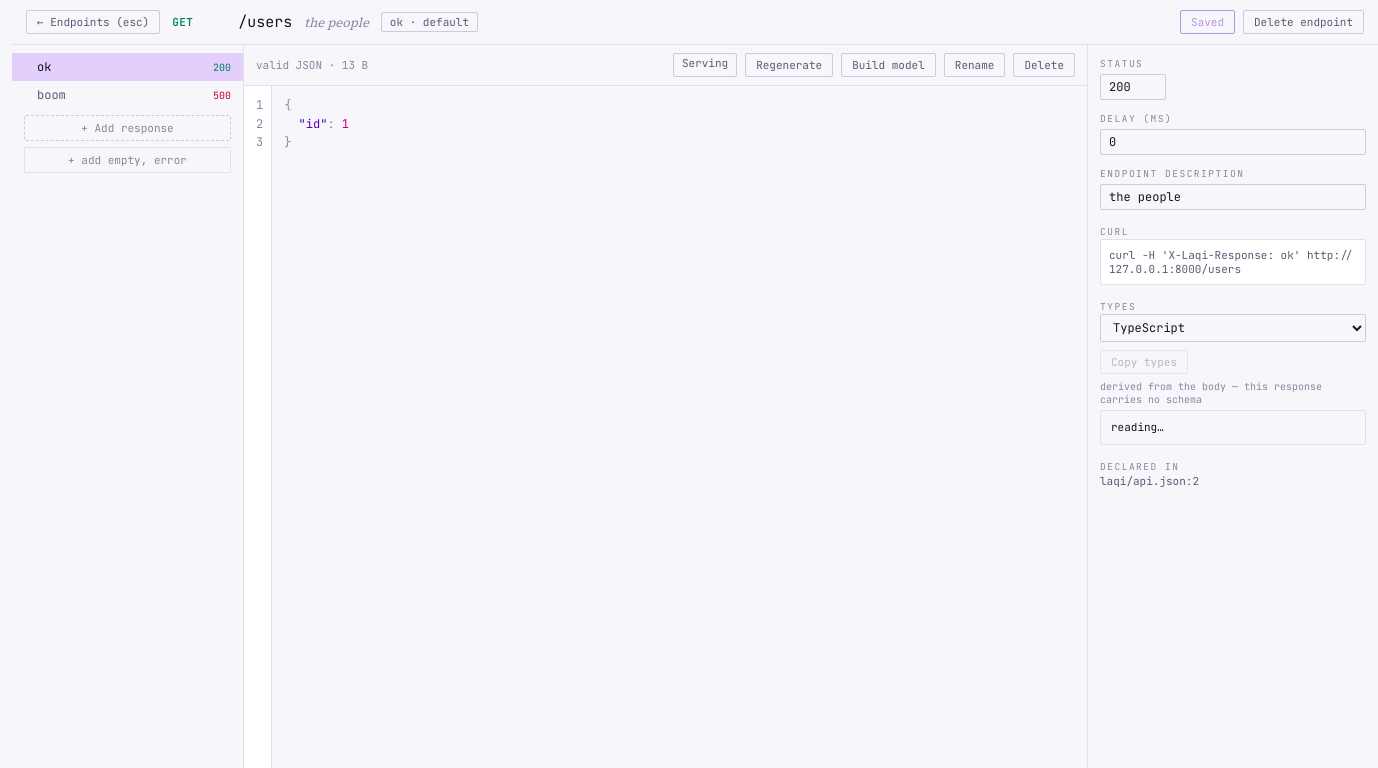
Scenario: building a model from a body that has no schema › shows why a model was refused, instead of failing quietly
Click the button "Build model". click: (888, 65)
box: left=841, top=53, right=936, bottom=77
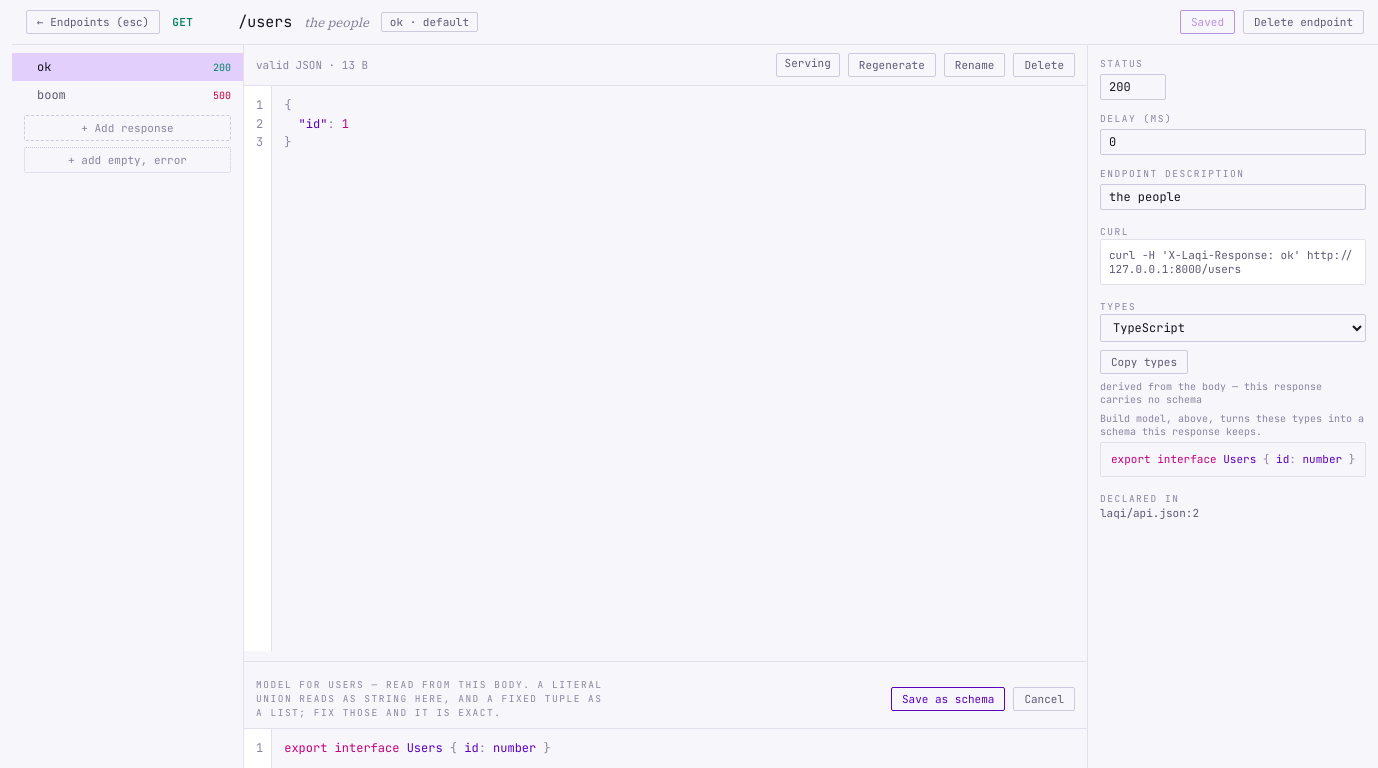
Result: the text box named "model" is shown at left=272, top=729, right=1087, bottom=767
Click the button "Save as schema". click: (948, 699)
box: left=891, top=687, right=1005, bottom=711
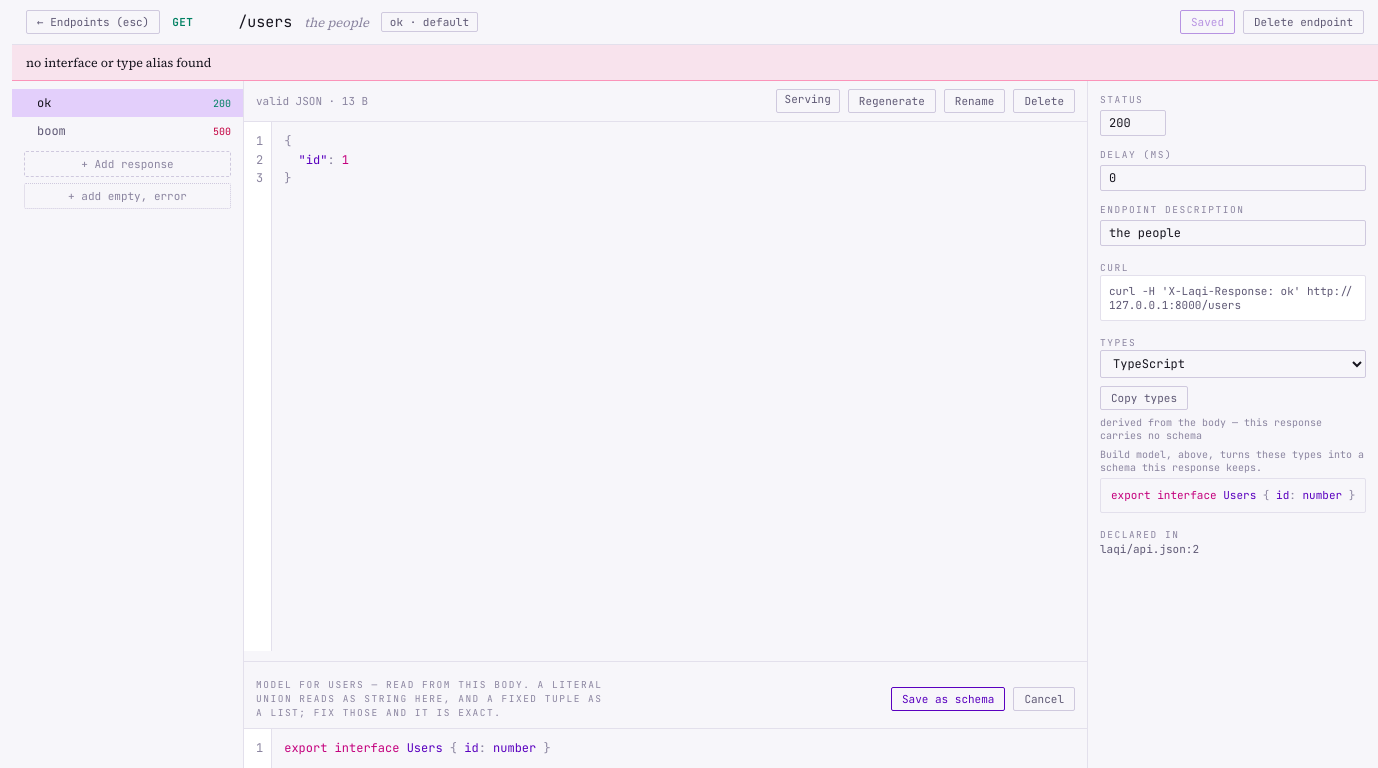
Result: the text "no interface or type alias found" is shown at left=12, top=45, right=1377, bottom=81
